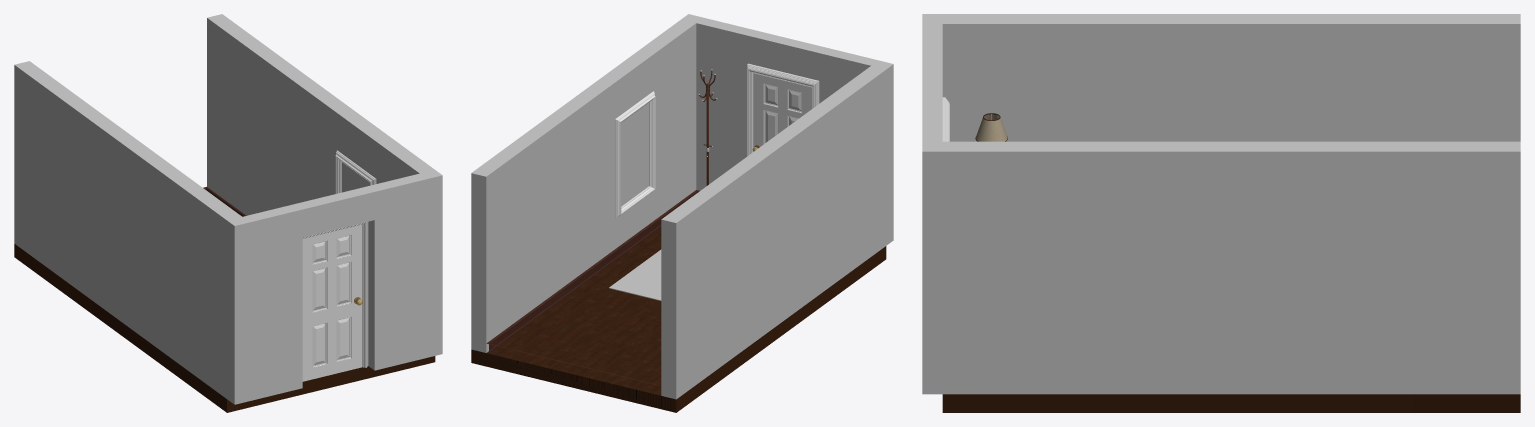
File: Corridor (3).fbx
3 views of the same model, side by side, from view 1: azimuth 30°, elevation 25°; view 2: azimuth 150°, elevation 25°; view 3: azimuth 270°, elevation 25° (orthographic). The views are drawn at different scales.
Visible parts, largest first — view 1: Wall.001, Wall.002, Wall.003, Wall.004, DoorRoom, Floor, Wall, DoorRoom2, Picture frame; view 2: Wall.001, Wall.002, Floor, Wall.004, Picture frame, Wall.003, DoorRoom, Wall, Skirting, Carpet, DoorRoom2, Hanger; view 3: Wall.002, Wall.001, Floor, Wall.004, Wall, Wall.003, Floor lamp.
Part boxes in pixels (left/top/right/bottom): Wall.001: left=14, top=61, right=241, bottom=398; Wall.002: left=207, top=14, right=434, bottom=215; Wall.003: left=227, top=204, right=302, bottom=404; Wall.004: left=367, top=170, right=442, bottom=370; DoorRoom: left=302, top=224, right=362, bottom=381; Floor: left=14, top=244, right=435, bottom=412; Wall: left=295, top=186, right=374, bottom=237; DoorRoom2: left=302, top=222, right=368, bottom=367; Picture frame: left=335, top=150, right=376, bottom=193; Wall.001: left=661, top=66, right=886, bottom=399; Wall.002: left=471, top=19, right=696, bottom=352; Floor: left=471, top=227, right=886, bottom=412; Wall.004: left=681, top=14, right=754, bottom=190; Picture frame: left=615, top=91, right=655, bottom=218; Wall.003: left=819, top=48, right=893, bottom=245; DoorRoom: left=752, top=73, right=811, bottom=151; Wall: left=748, top=30, right=826, bottom=80; Skirting: left=486, top=190, right=699, bottom=385; Carpet: left=609, top=249, right=661, bottom=300; DoorRoom2: left=747, top=63, right=819, bottom=155; Hanger: left=698, top=69, right=717, bottom=185; Wall.002: left=942, top=141, right=1520, bottom=394; Wall.001: left=942, top=14, right=1520, bottom=141; Floor: left=942, top=394, right=1520, bottom=412; Wall.004: left=922, top=106, right=942, bottom=394; Wall: left=922, top=59, right=942, bottom=106; Wall.003: left=922, top=14, right=942, bottom=58; Floor lamp: left=975, top=113, right=1007, bottom=141.
Size of the model in its own units: 3.19 by 5.85 by 2.82.
